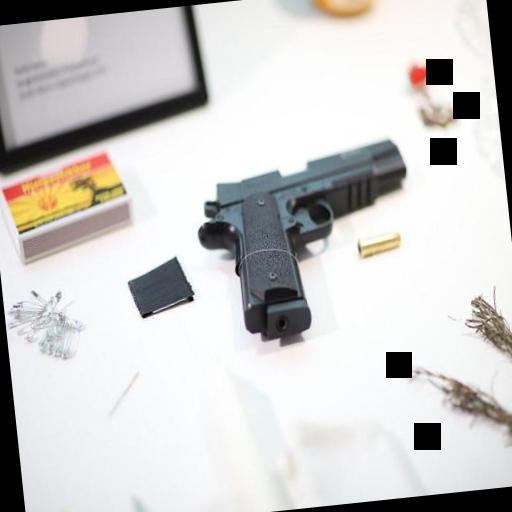Handgun: (186, 132, 426, 350)
